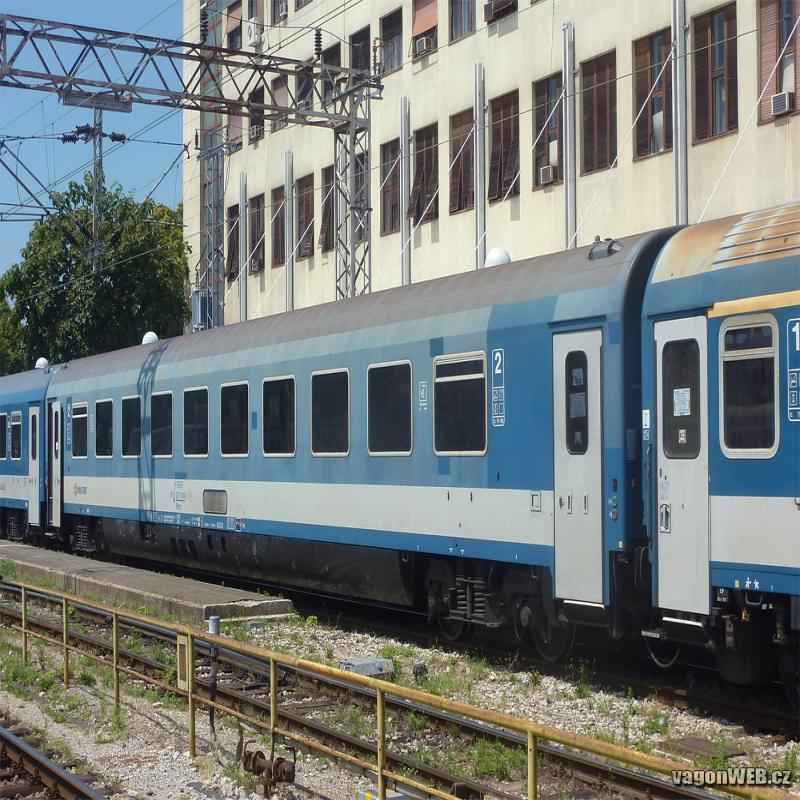train: (42, 225, 684, 675)
